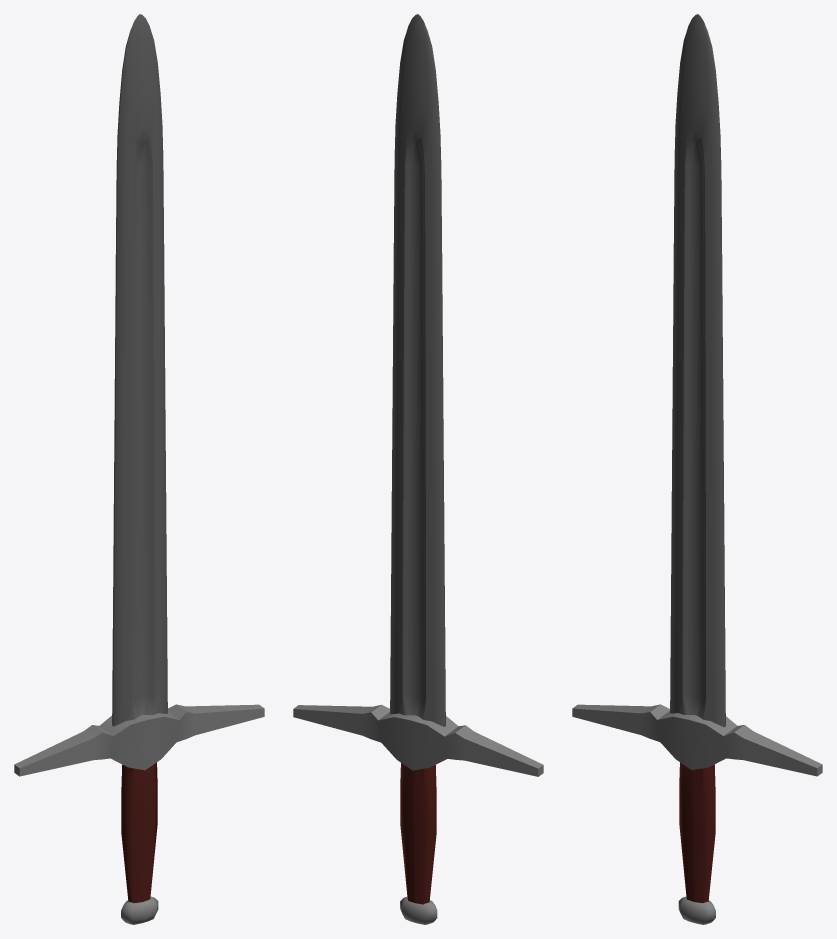
Rendered from simpleSword.fbx.
3 views of the same model, side by side, from view 1: azimuth 30°, elevation 25°; view 2: azimuth 150°, elevation 25°; view 3: azimuth 330°, elevation 25° (orthographic).
Visible parts, largest first — view 1: Cube.001; view 2: Cube.001; view 3: Cube.001.
Part boxes in pixels (x1,y1,x2,y2): Cube.001: (14, 14, 264, 924); Cube.001: (293, 14, 543, 924); Cube.001: (572, 14, 822, 924).
Bounding box in the file's own units: 70.1 × 248 × 8.21.
